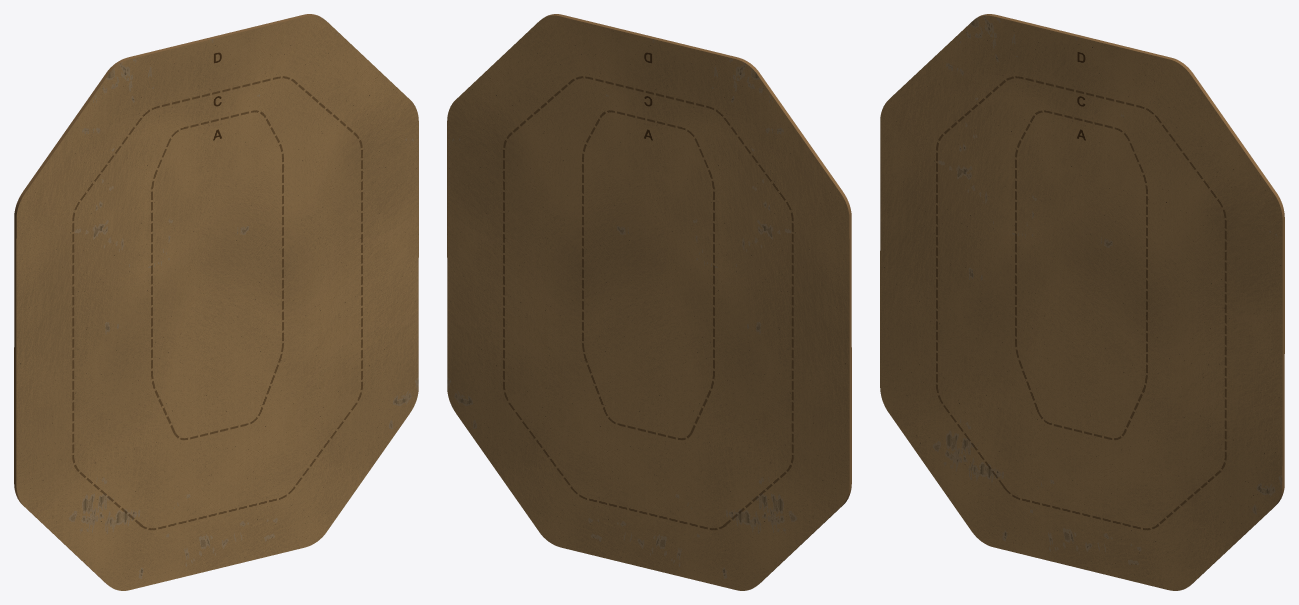
File: obj_paper_card.glb
The picture shows the model from 3 angles, left to right: view 1: azimuth 30°, elevation 25°; view 2: azimuth 150°, elevation 25°; view 3: azimuth 330°, elevation 25°; orthographic projection.
Visible parts, largest first — view 1: card; view 2: card; view 3: card.
Part boxes in pixels (bbox=[...]): card: bbox=[14, 14, 418, 590]; card: bbox=[447, 14, 851, 590]; card: bbox=[880, 14, 1284, 590].
Size of the model in its own units: 0.46 by 0.58 by 0.0045.
2 materials, 1 textured.
